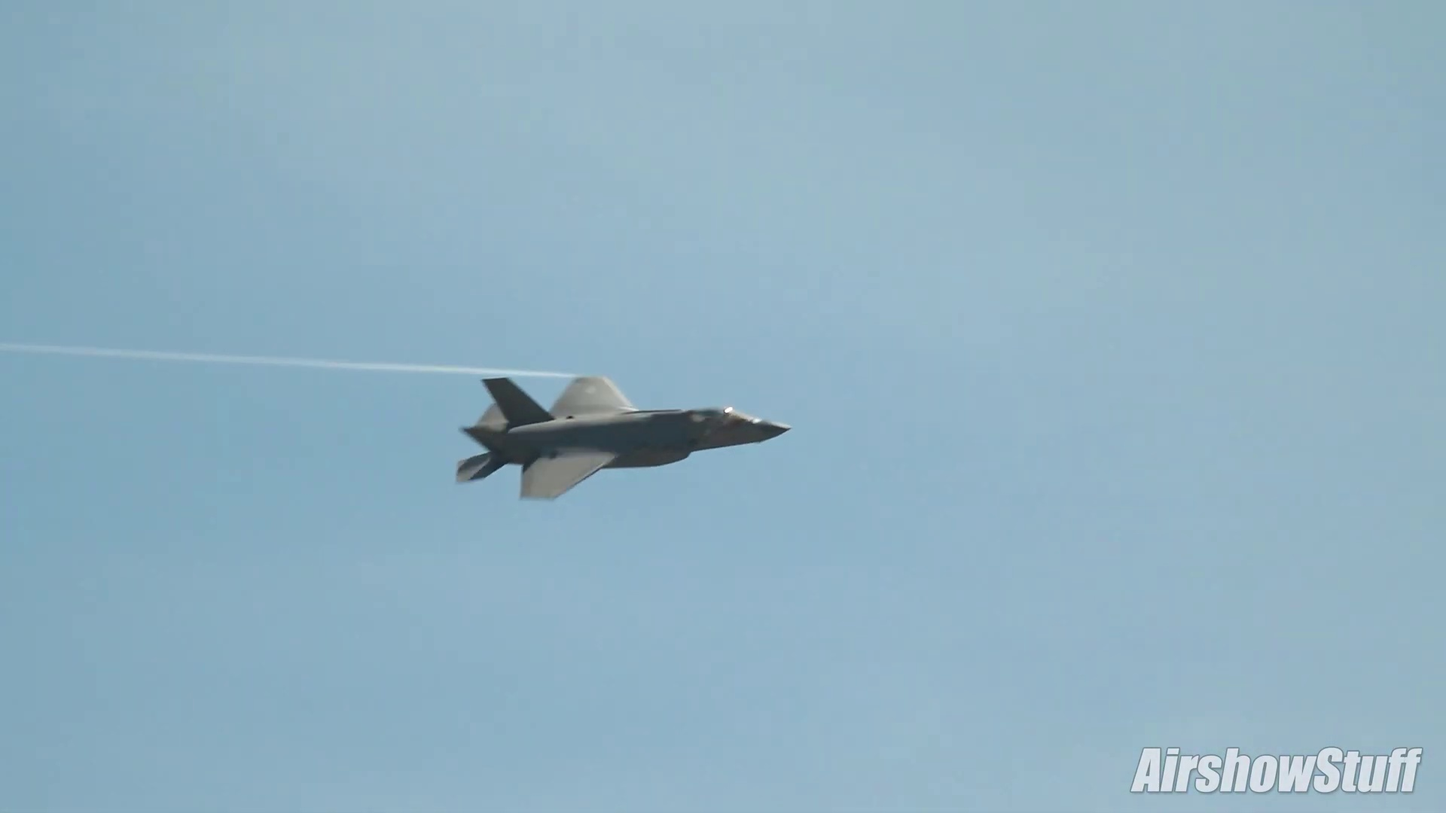F35: (450, 367, 796, 503)
